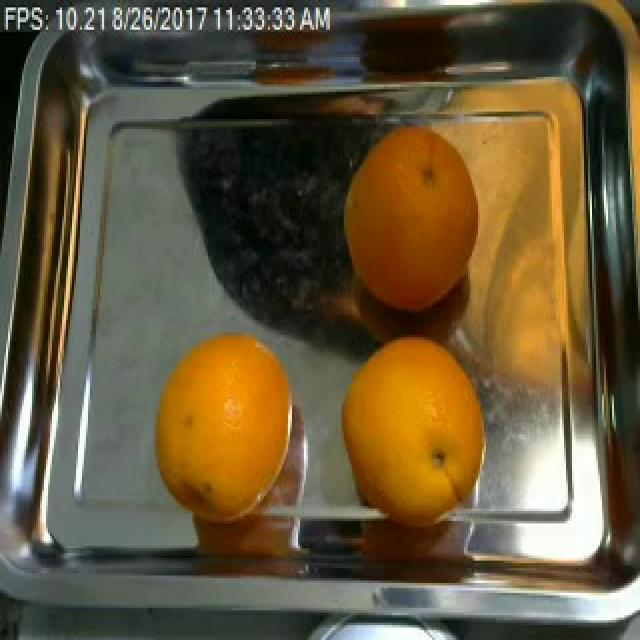Fruit: (328, 109, 502, 333), (330, 317, 492, 524), (140, 312, 298, 524)
